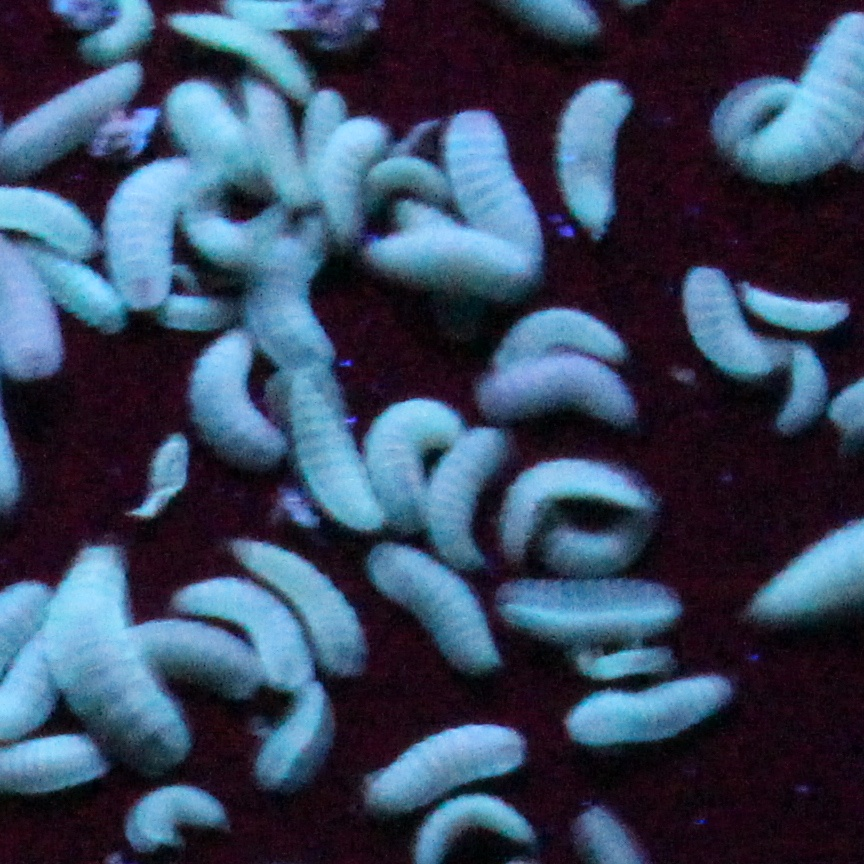larve: (75, 558, 193, 750), (239, 531, 368, 665), (383, 543, 502, 660), (9, 76, 137, 167), (381, 224, 525, 299), (491, 360, 632, 434), (300, 373, 367, 520), (224, 575, 322, 670), (568, 71, 626, 229), (458, 120, 533, 239), (156, 611, 268, 689), (258, 243, 332, 360), (684, 281, 770, 376), (202, 348, 279, 453), (515, 587, 680, 633), (580, 675, 727, 726), (515, 467, 644, 521), (388, 738, 512, 794), (186, 18, 296, 76), (375, 403, 428, 515), (439, 429, 482, 566), (323, 122, 379, 227), (191, 192, 277, 260), (126, 174, 168, 310), (177, 94, 242, 181), (249, 101, 298, 204), (268, 689, 324, 772), (558, 521, 649, 570), (139, 792, 227, 838), (42, 262, 116, 315), (509, 313, 619, 348), (374, 160, 454, 206), (749, 285, 840, 324), (768, 357, 816, 429), (725, 83, 788, 127), (303, 92, 332, 181), (590, 648, 671, 672), (167, 292, 221, 327)
